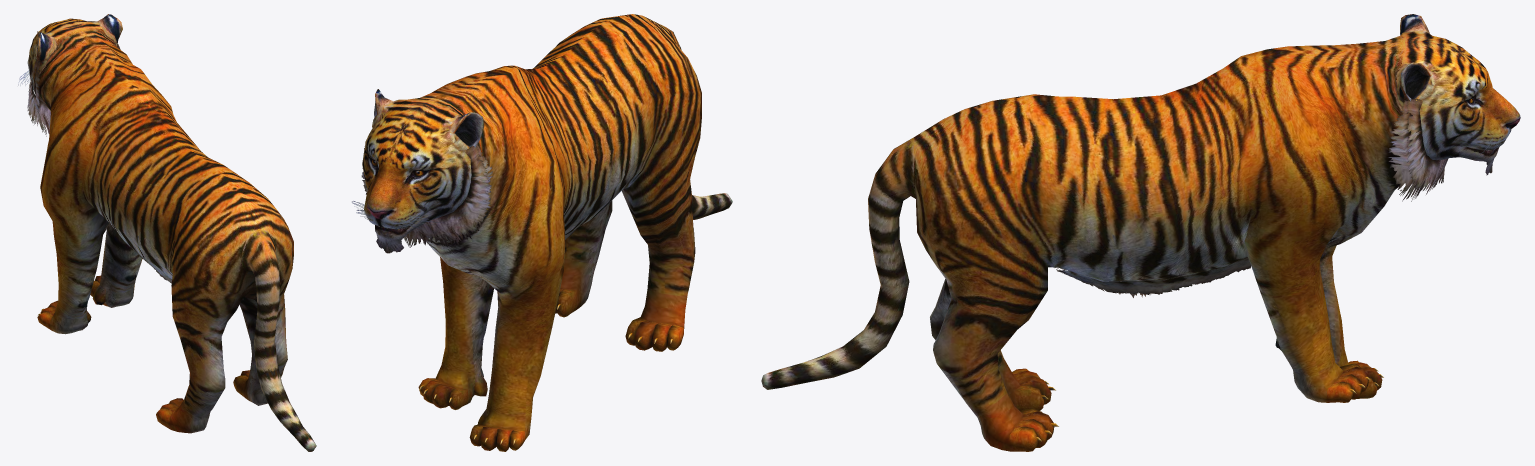
Rendered from tiger.obj.
3 renders of one model, left to right at view 1: azimuth 30°, elevation 25°; view 2: azimuth 150°, elevation 25°; view 3: azimuth 270°, elevation 25°, orthographic. The views are drawn at different scales.
Parts seen in each view (by area): view 1: Object_58; view 2: Object_58; view 3: Object_58.
Boxes of the visible parts, x1,y1,x2,y2 form: Object_58: [18, 14, 316, 451]; Object_58: [352, 14, 732, 451]; Object_58: [761, 14, 1520, 451].
Bounding box in the file's own units: 0.2441 × 0.5221 × 0.9114.
1 material, 1 textured.
